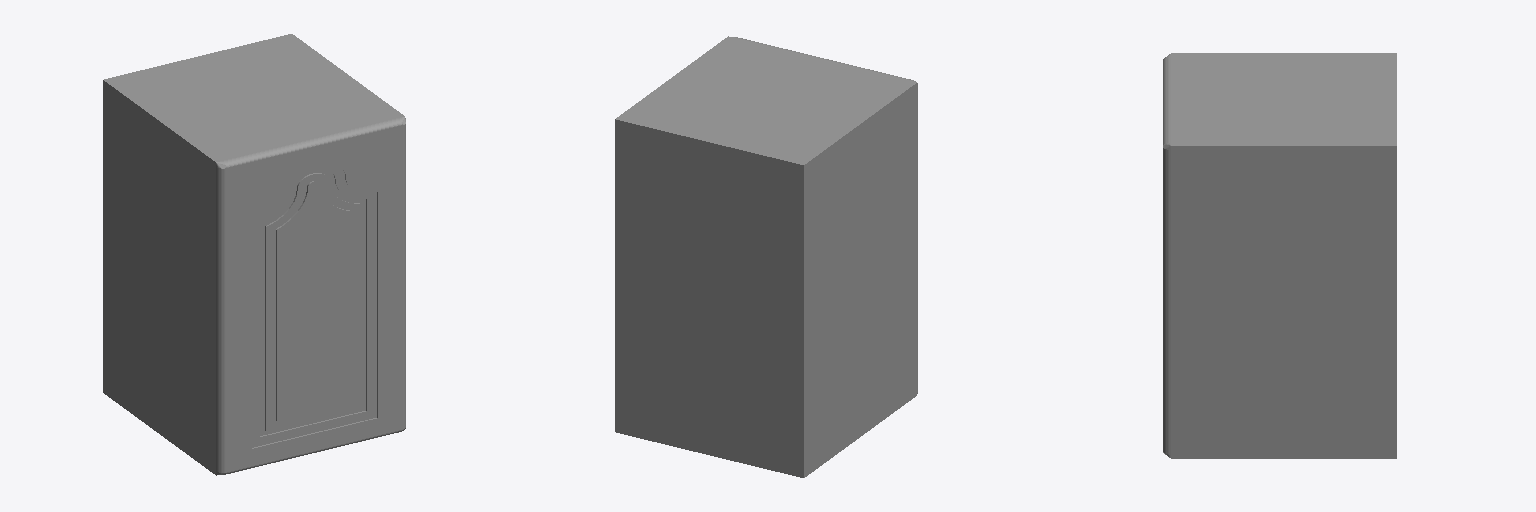
The model's file is single-base-unit-550.obj.
The picture shows the model from 3 angles: view 1: azimuth 30°, elevation 25°; view 2: azimuth 150°, elevation 25°; view 3: azimuth 270°, elevation 25°; orthographic projection.
Parts seen in each view (by area): view 1: Cube.003_Cube.008, Cube.002_Cube.004, Cube_Cube.002, Cube.001_Cube.003; view 2: Cube_Cube.002, Cube.002_Cube.004, Cube.001_Cube.003, Cube.003_Cube.008; view 3: Cube.001_Cube.003, Cube_Cube.002, Cube.003_Cube.008, Cube.002_Cube.004.
Boxes of the visible parts, <box> form: Cube.003_Cube.008: <box>216,117,405,475</box>; Cube.002_Cube.004: <box>103,79,219,474</box>; Cube_Cube.002: <box>108,35,399,160</box>; Cube.001_Cube.003: <box>288,34,404,116</box>; Cube_Cube.002: <box>620,38,911,476</box>; Cube.002_Cube.004: <box>799,81,916,477</box>; Cube.001_Cube.003: <box>615,37,731,432</box>; Cube.003_Cube.008: <box>728,36,917,393</box>; Cube.001_Cube.003: <box>1171,143,1396,458</box>; Cube_Cube.002: <box>1171,56,1396,142</box>; Cube.003_Cube.008: <box>1163,54,1170,457</box>; Cube.002_Cube.004: <box>1171,53,1396,55</box>.
Size of the model in its own units: 110 by 174 by 118.